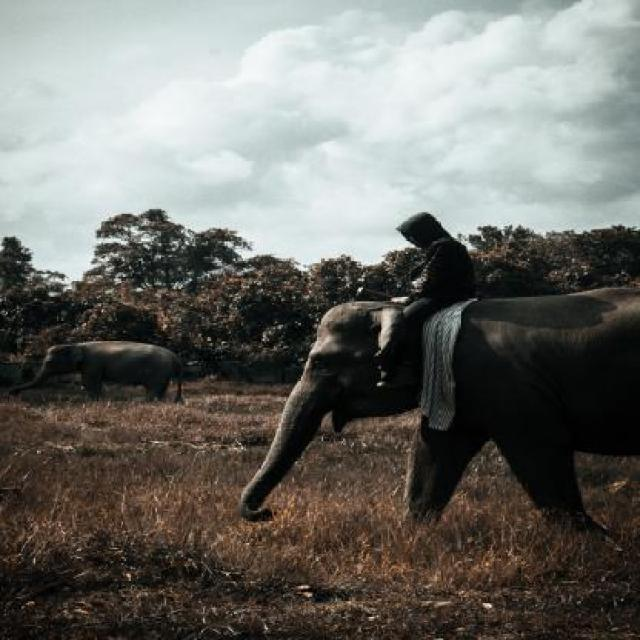Elephant: (223, 283, 639, 568)
